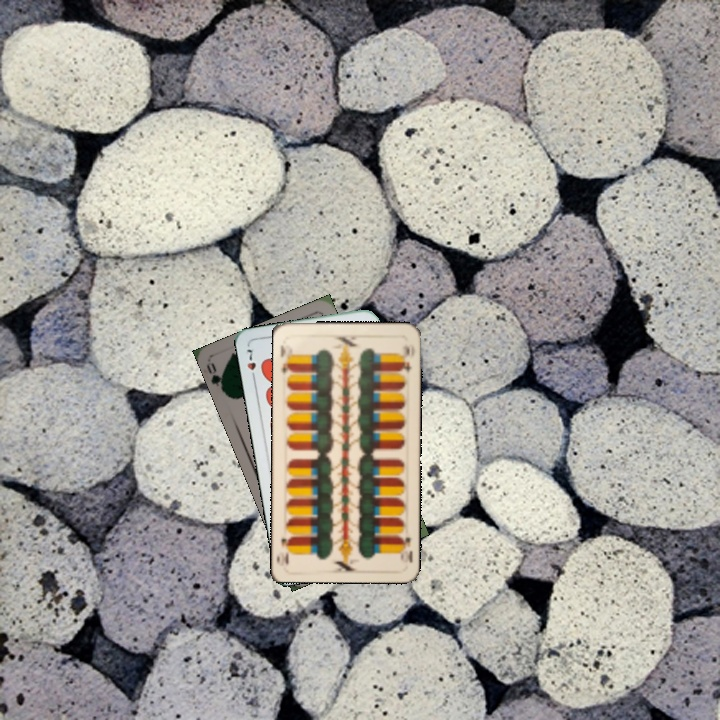E10: (395, 533, 415, 565), (278, 358, 295, 377)
GO: (202, 359, 229, 397)
H7: (243, 345, 259, 383)
